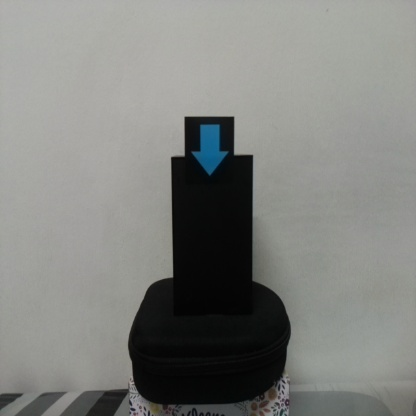id_2: (184, 117, 235, 184)
